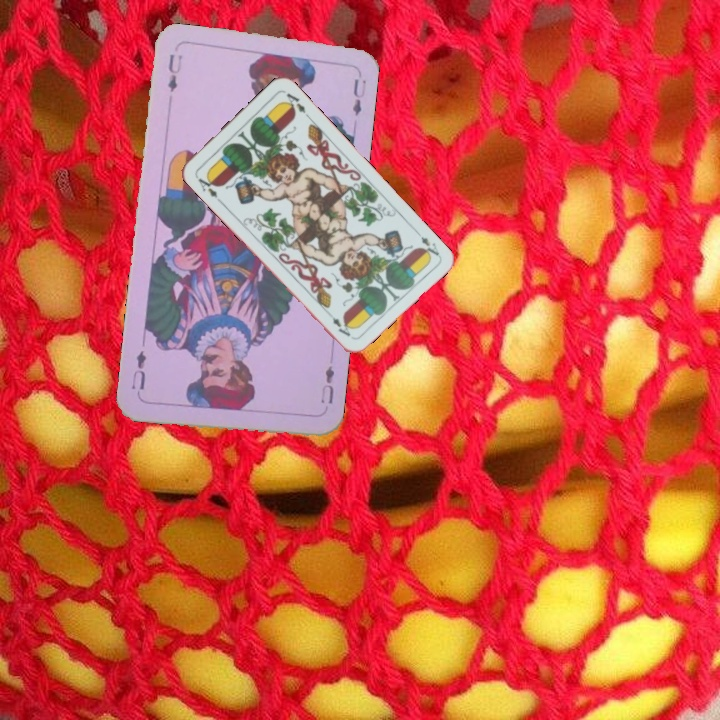EA: (192, 171, 224, 205), (410, 227, 442, 261)
EU: (164, 50, 185, 95), (316, 362, 337, 406)
